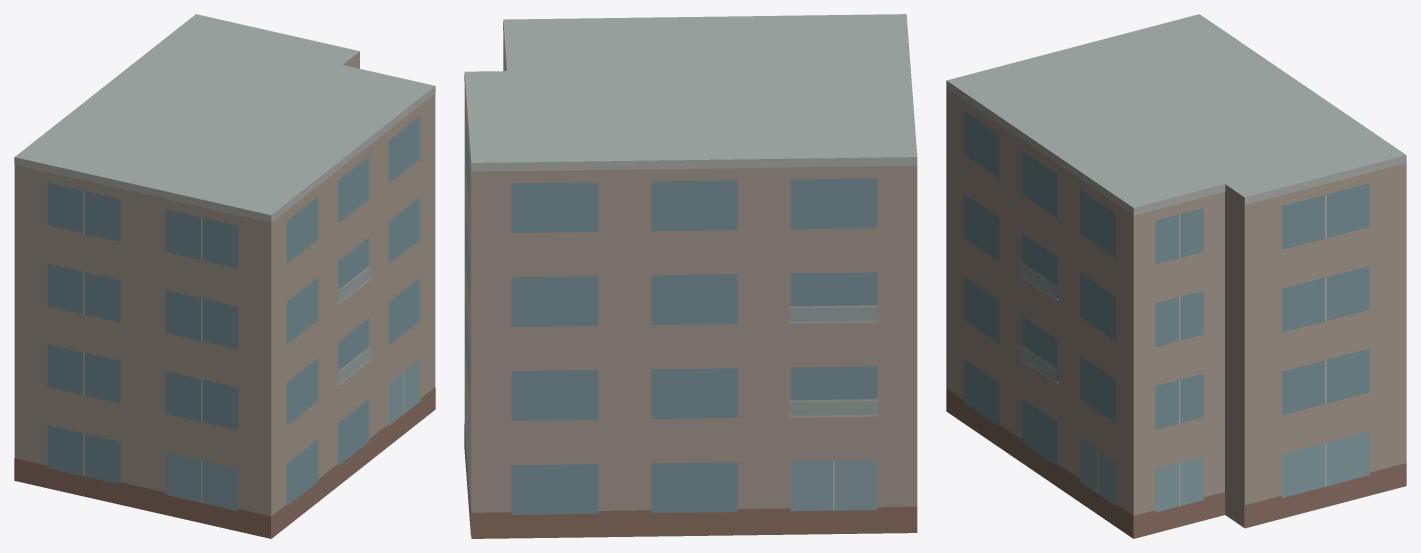
Rendered from residential-456a7645-5241-4537-a1ea-b455b9a702f4.glb.
The picture shows the model from 3 angles, left to right: view 1: azimuth 30°, elevation 25°; view 2: azimuth 150°, elevation 25°; view 3: azimuth 270°, elevation 25°; orthographic projection. The views are drawn at different scales.
Visible parts, largest first — view 1: residential-456a7645-5241-4537-a1ea-b455b9a702f4.tmp; view 2: residential-456a7645-5241-4537-a1ea-b455b9a702f4.tmp; view 3: residential-456a7645-5241-4537-a1ea-b455b9a702f4.tmp.
Boxes of the visible parts, <box> form: residential-456a7645-5241-4537-a1ea-b455b9a702f4.tmp: <box>14,14,435,538</box>; residential-456a7645-5241-4537-a1ea-b455b9a702f4.tmp: <box>464,14,917,538</box>; residential-456a7645-5241-4537-a1ea-b455b9a702f4.tmp: <box>946,14,1406,538</box>.
Size of the model in its own units: 13.21 by 10.5 by 13.25.
